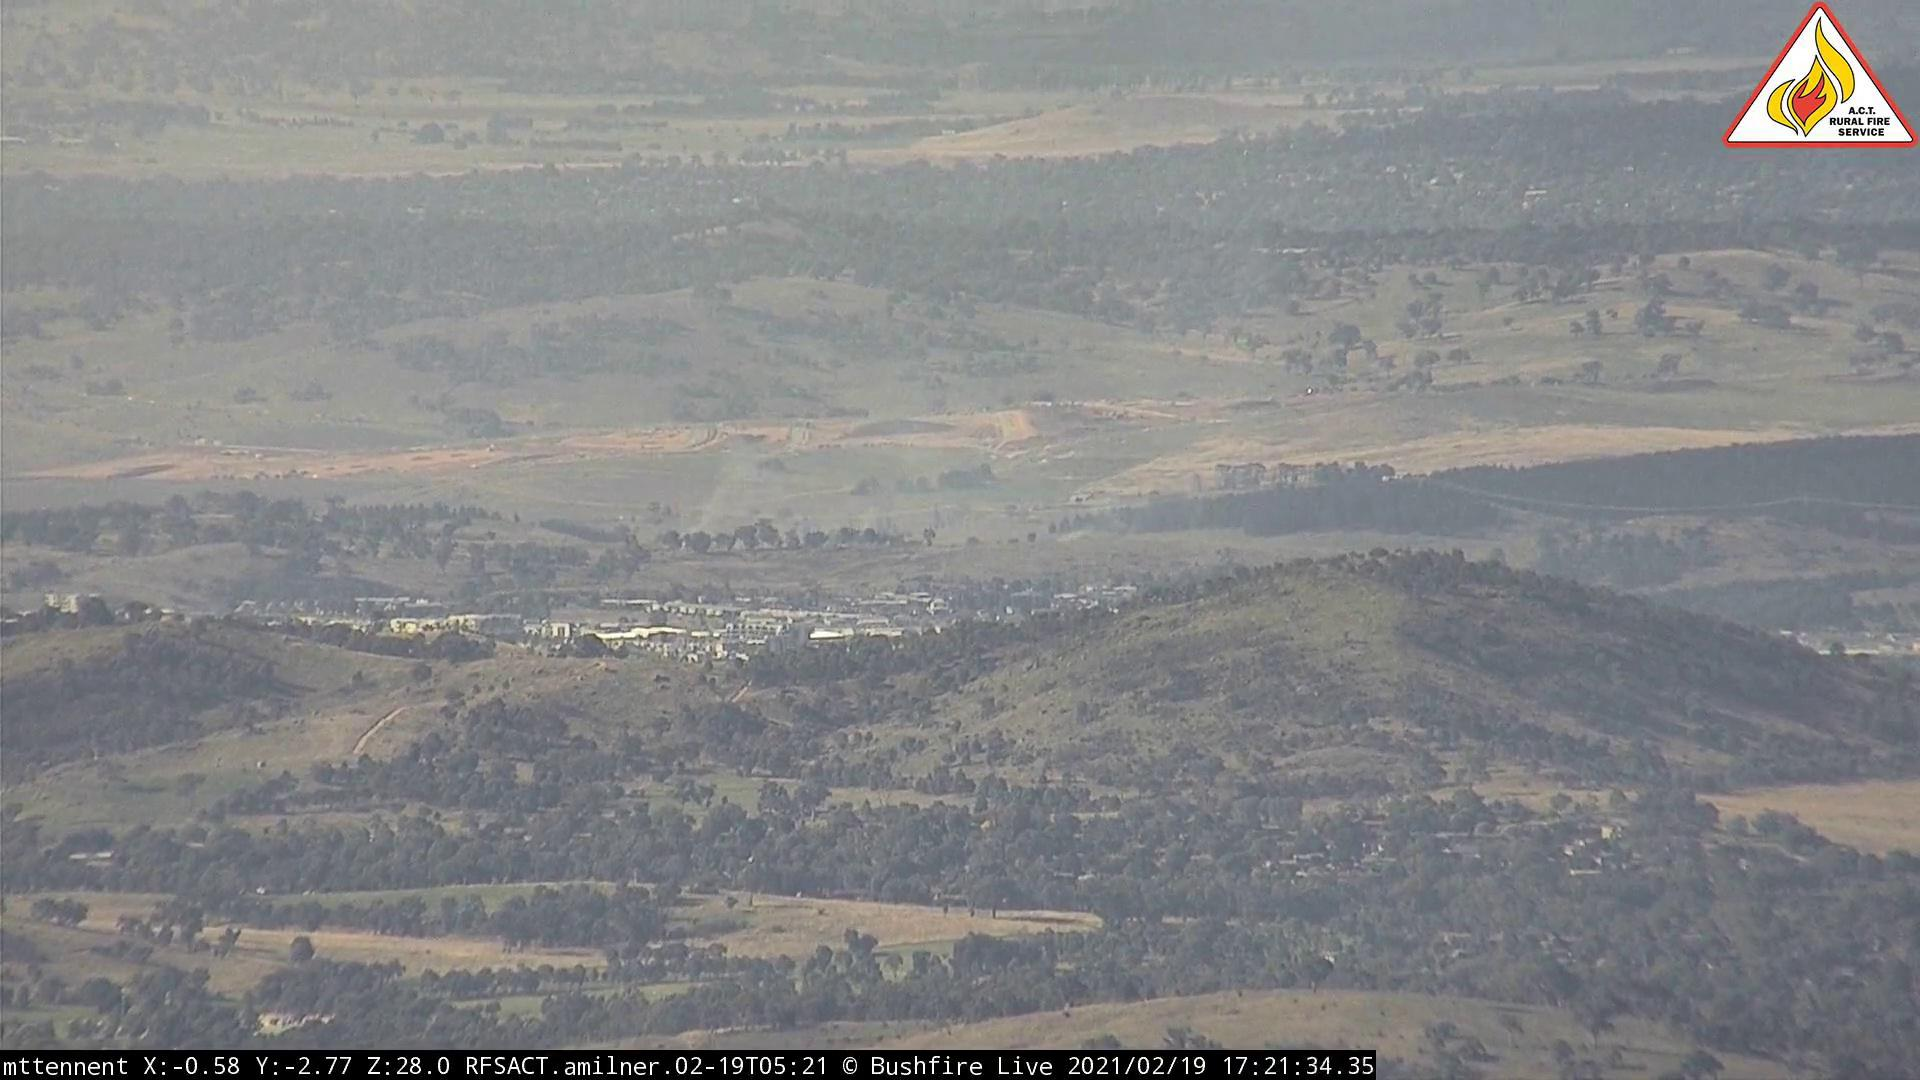Smoke: (667, 425, 918, 559), (1058, 502, 1130, 551)
